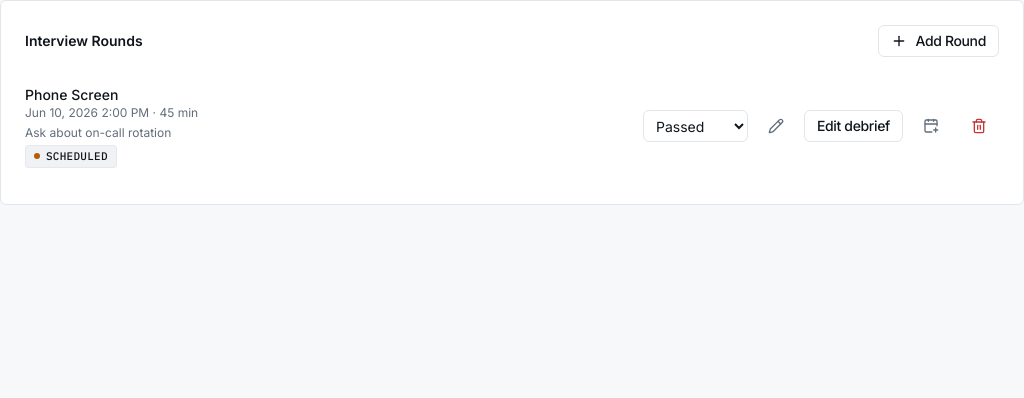
InterviewRounds › debrief › closes the editor without saving on Cancel
The image size is (1024, 398).
Click the button "Edit debrief". click: coordinates (854, 126)
box: [804,110,903,142]
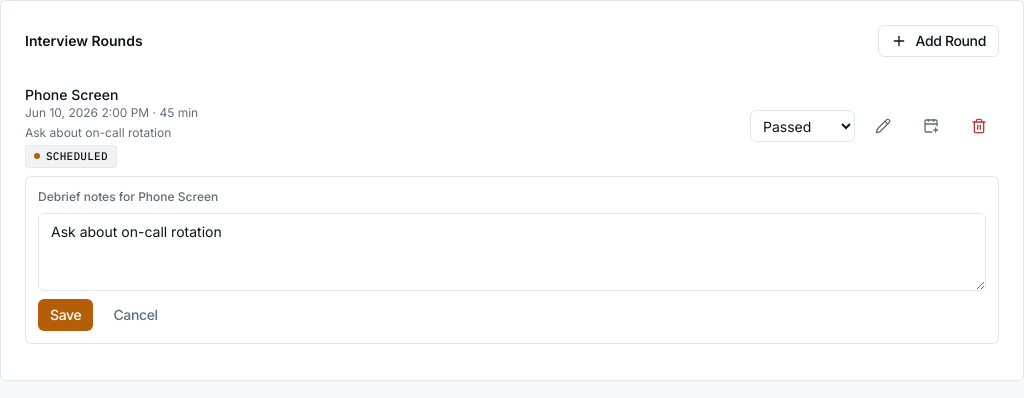
Now the text box labelled "Debrief notes for Phone Screen" is shown, box [38,212,986,290]
Click the button "Cancel". click: coordinates (136, 314)
box: [101,298,170,330]
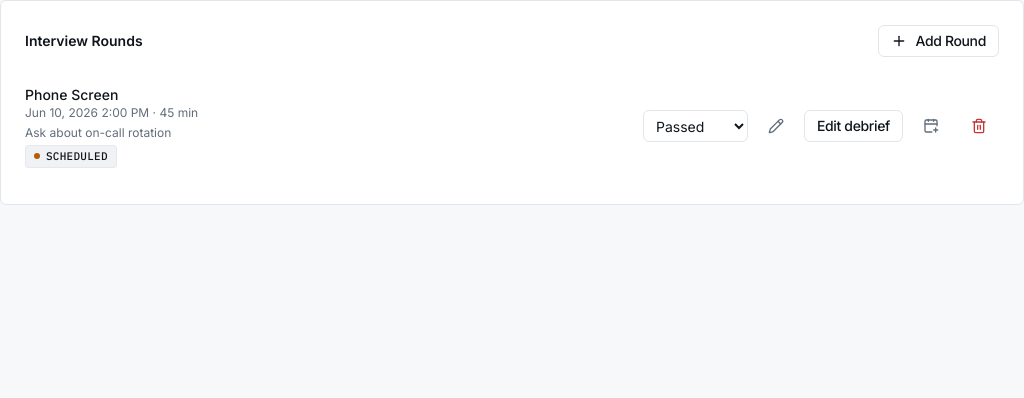
Now the label labelled "Debrief notes for Phone Screen" is gone
